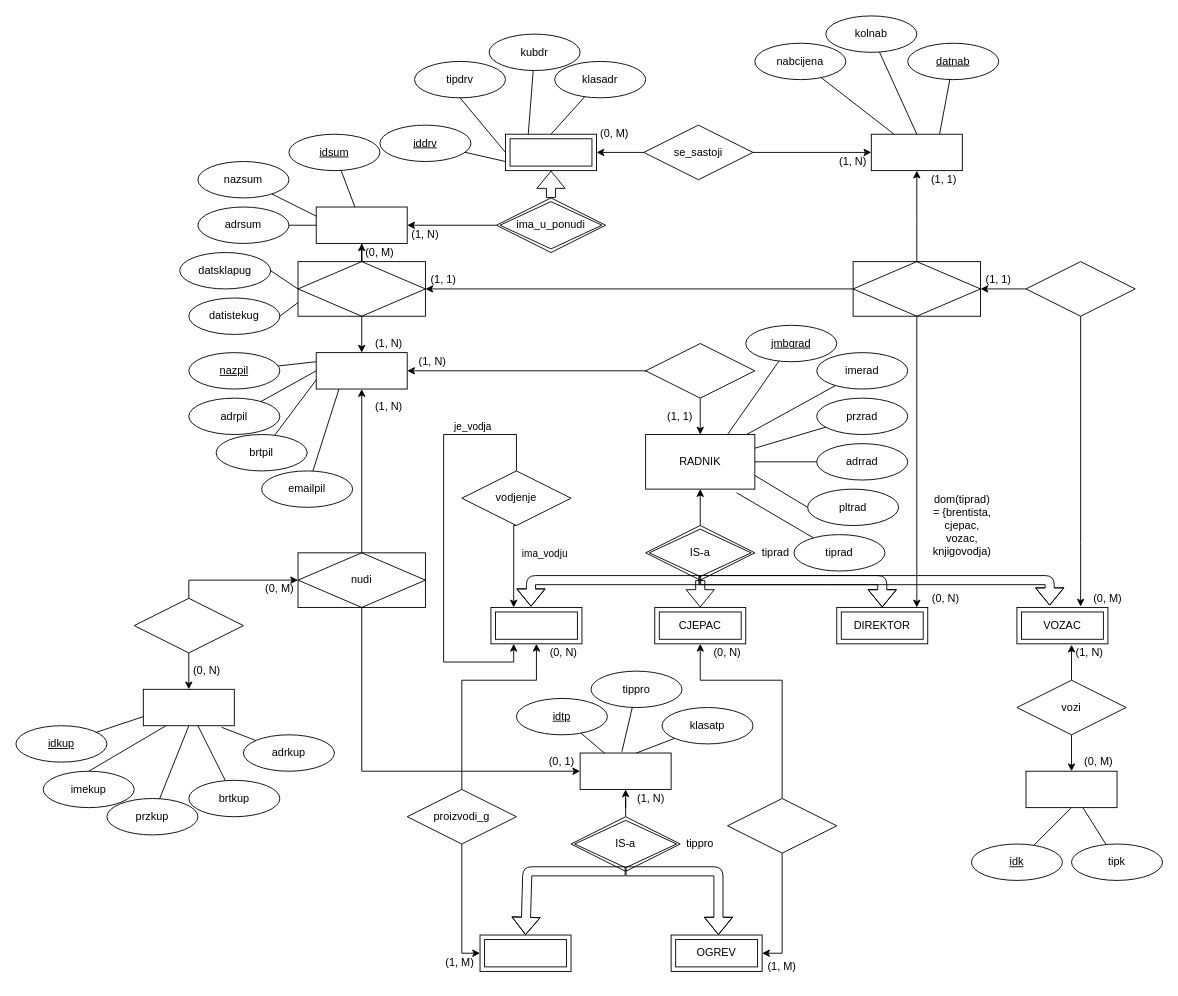
Some shapes in this 1178 by 996 pixel diagram are drawn without their labels. Here are the shapes that lost their labels. From the top down, the centre of each, then its label:
At [551,152]: "DRVO".
At [916,152]: "NABAVKA".
At [361,224]: "SUMARIJA".
At [361,288]: "ima_ugovor".
At [916,288]: "kreira".
At [1080,288]: "nabavlja".
At [361,370]: "PILANA".
At [700,370]: "zaposljava".
At [188,625]: "kupuje".
At [536,625]: "BRENTISTA".
At [188,707]: "KUPAC".
At [625,770]: "PROIZVOD".
At [1071,789]: "KAMION".
At [782,825]: "proizvodi_o".
At [525,952]: "GRADJA".
